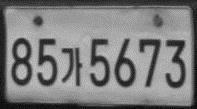3: (164, 39, 186, 89)
5: (36, 36, 58, 86), (89, 37, 111, 87)
6: (113, 37, 137, 87)
7: (137, 38, 161, 88)
8: (10, 37, 32, 85)
가: (60, 46, 84, 87)
